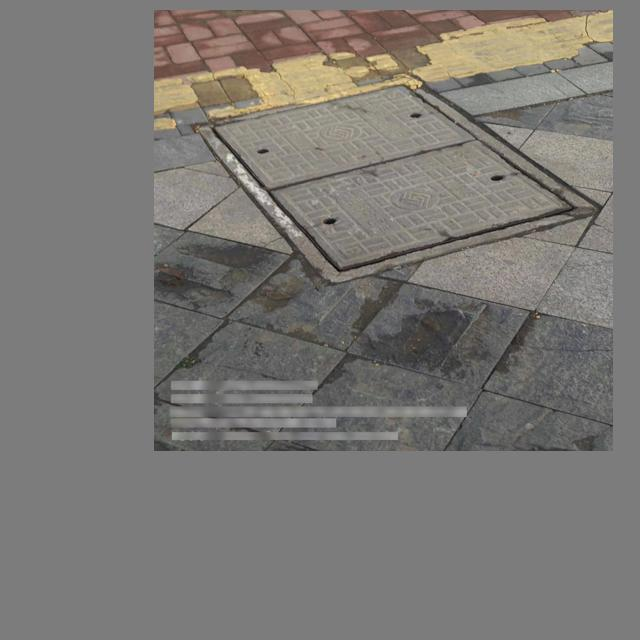good: (195, 77, 603, 284)
